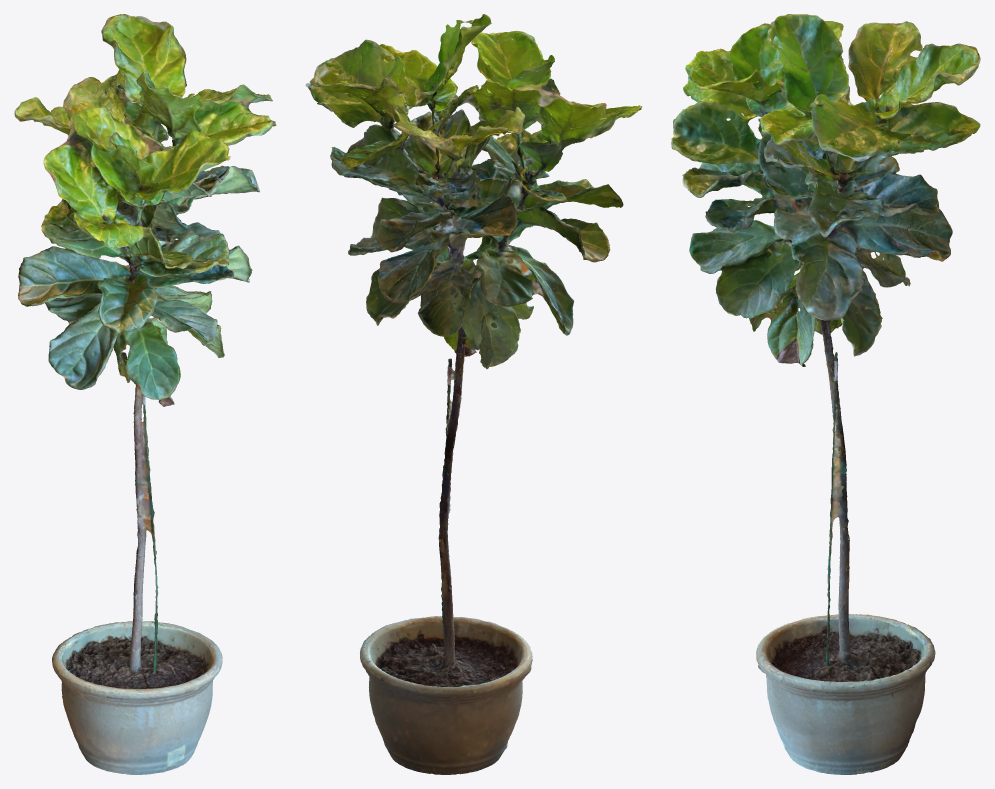
Rendered from plant_fiddle_leaf.glb.
The picture shows the model from 3 angles, left to right: view 1: azimuth 30°, elevation 25°; view 2: azimuth 150°, elevation 25°; view 3: azimuth 270°, elevation 25°; orthographic projection. The views are drawn at different scales.
Parts seen in each view (by area): view 1: Object_5, Object_8, Object_4, Object_6, Object_7, Object_9; view 2: Object_4, Object_5, Object_8, Object_6, Object_7, Object_9; view 3: Object_4, Object_8, Object_5, Object_6, Object_7, Object_9.
Part boxes in pixels (bbox=[...]): Object_5: bbox=[21, 14, 275, 774]; Object_8: bbox=[14, 14, 276, 772]; Object_4: bbox=[18, 18, 268, 754]; Object_6: bbox=[18, 14, 275, 757]; Object_7: bbox=[17, 16, 275, 771]; Object_9: bbox=[15, 16, 260, 774]; Object_4: bbox=[309, 14, 630, 757]; Object_5: bbox=[306, 24, 637, 755]; Object_8: bbox=[306, 20, 642, 774]; Object_6: bbox=[305, 21, 640, 759]; Object_7: bbox=[309, 23, 639, 754]; Object_9: bbox=[316, 20, 640, 772]; Object_4: bbox=[675, 14, 979, 774]; Object_8: bbox=[671, 14, 980, 770]; Object_5: bbox=[679, 20, 980, 761]; Object_6: bbox=[679, 14, 980, 774]; Object_7: bbox=[673, 22, 975, 760]; Object_9: bbox=[681, 14, 977, 774].
Size of the model in its own units: 0.6641 by 1.67 by 0.6401.
Materials: 1 (1 with a texture image).
